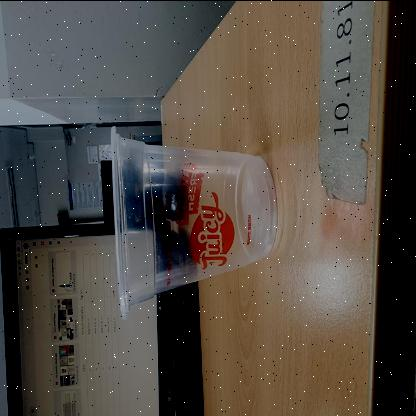Others: (108, 124, 278, 316)
